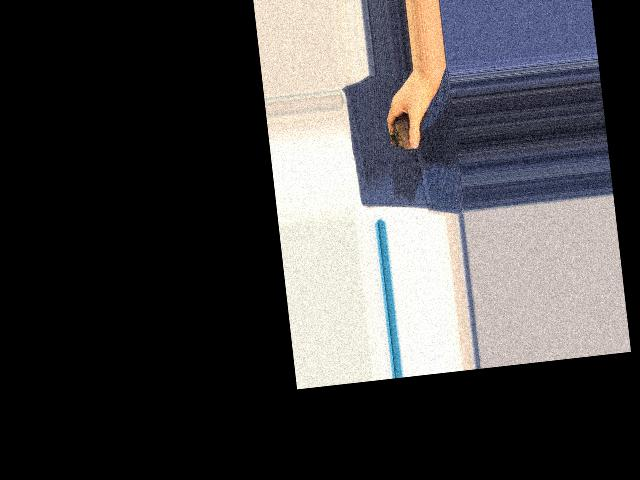beet: (388, 110, 435, 151)
